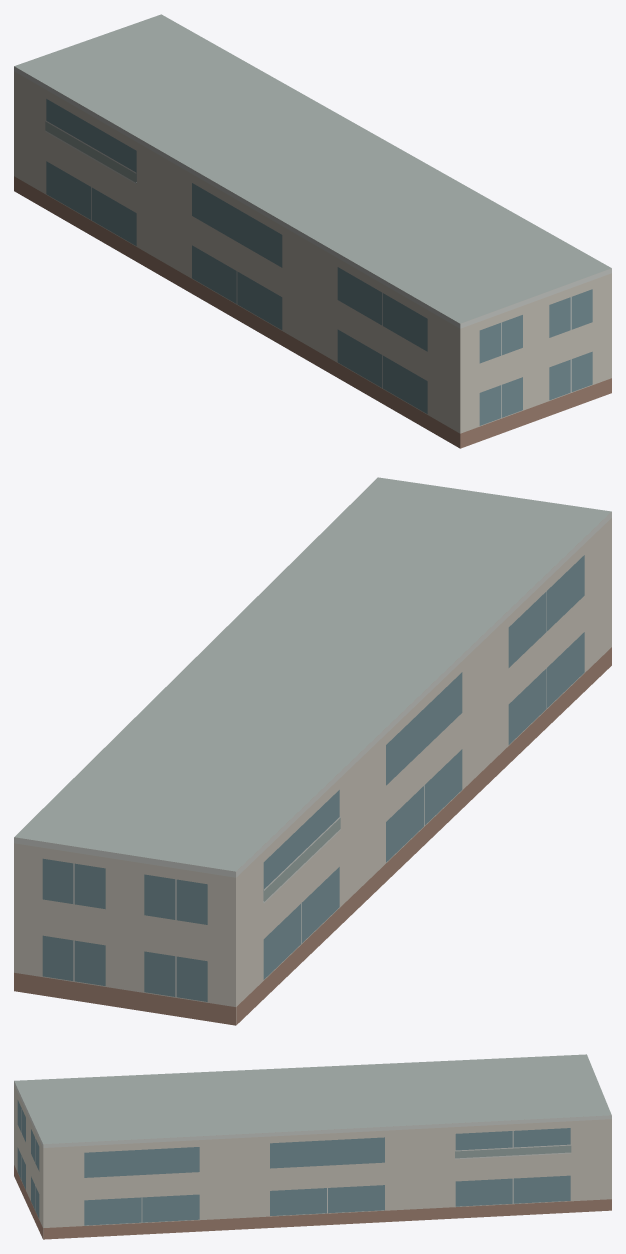
The model's file is survey-upis-32773016.glb.
3 renders of one model, top to bottom at view 1: azimuth 30°, elevation 25°; view 2: azimuth 150°, elevation 25°; view 3: azimuth 270°, elevation 25°, orthographic. The views are drawn at different scales.
Visible parts, largest first — view 1: survey-upis-32773016.tmp; view 2: survey-upis-32773016.tmp; view 3: survey-upis-32773016.tmp.
Part boxes in pixels (x1=…): survey-upis-32773016.tmp: x1=14, y1=14, x2=611, y2=448; survey-upis-32773016.tmp: x1=14, y1=477, x2=611, y2=1025; survey-upis-32773016.tmp: x1=14, y1=1054, x2=611, y2=1239.
Bounding box in the file's own units: 12.35 × 6.1 × 34.71.
